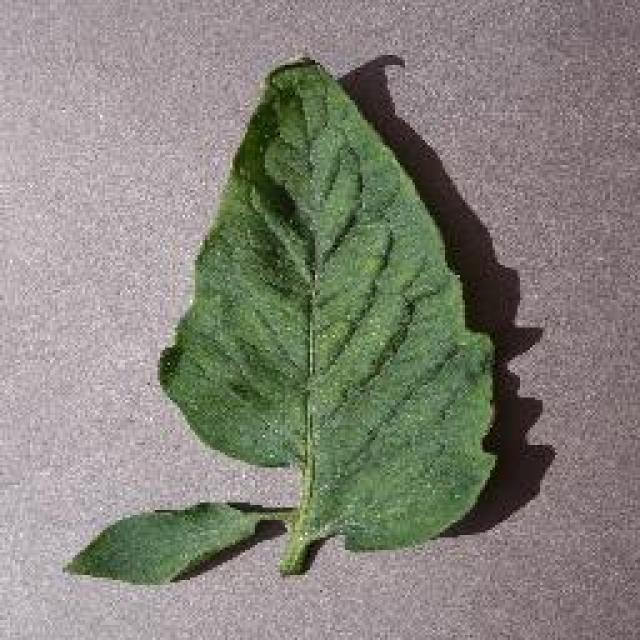Tomato___Spider_mites Two-spotted_spider_mite: (68, 58, 492, 582)
